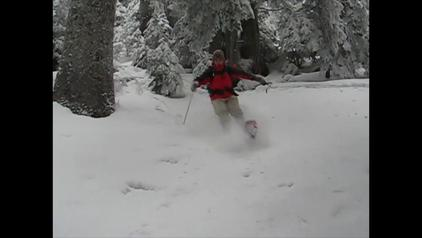walk: (196, 60, 248, 128)
